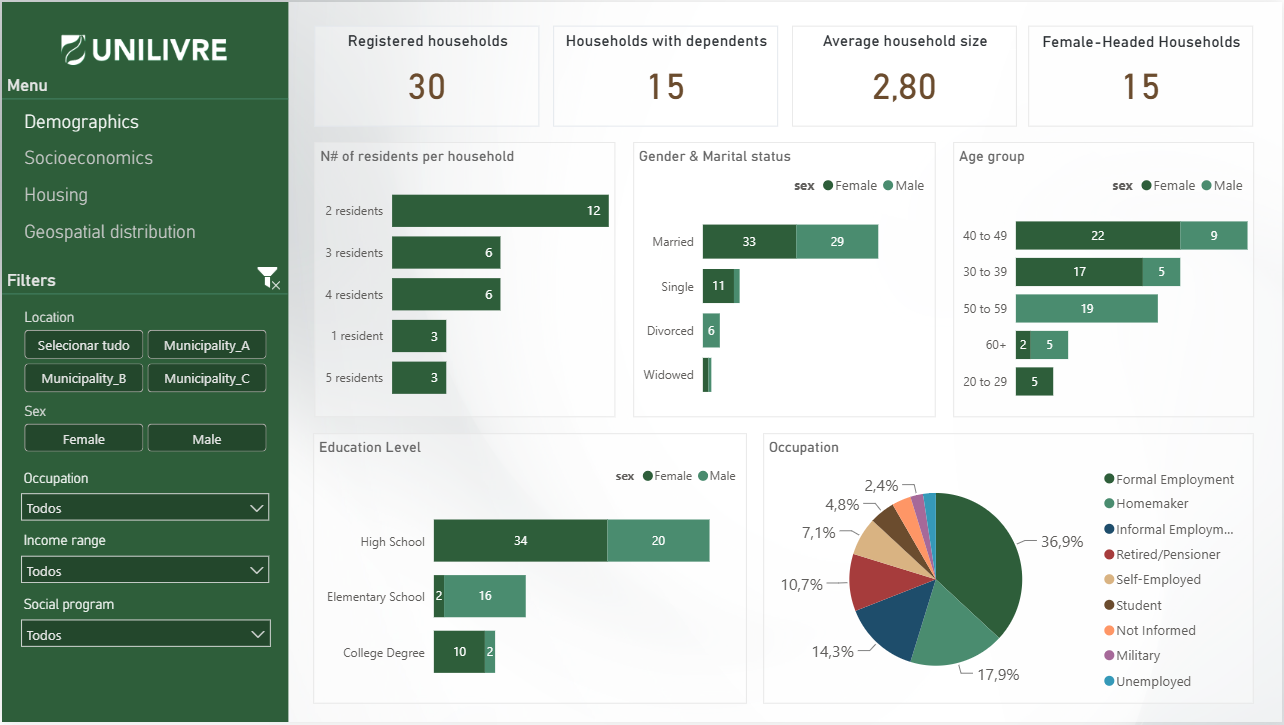

This screenshot's page, from the dashboard's own definition file:
{"tool":"powerbi","page":{"name":"Demographics","canvas":[1280,720],"ordinal":0},"visuals":[{"type":"shape","box":[0,0,286.7,720],"z":0},{"type":"cardVisual","title":"Registered households","fields":{"Data":["Count(dim_demographics.id_household)"]},"box":[312.4,23.5,225.1,100.8],"z":1000},{"type":"cardVisual","title":"Households with dependents","fields":{"Data":["dim_demographics.Households with Dependents"]},"box":[550.7,23.6,225,100.7],"z":2000},{"type":"pieChart","title":"Occupation","fields":{"Category":["dim_demographics.occupation"],"Y":["Sum(dim_demographics.household_size)"]},"box":[761.7,431.7,490,270],"z":3000},{"type":"barChart","title":"Age group","fields":{"Series":["dim_demographics.sex"],"Category":["dim_demographics.age_group"],"Y":["Sum(dim_demographics.household_size)"]},"box":[950.8,139.4,300.7,275.5],"z":4000},{"type":"cardVisual","title":"Average household size","fields":{"Data":["Avg(dim_demographics.household_size)"]},"box":[789.5,23.5,225.1,100.8],"z":5000},{"type":"barChart","title":"Education Level","fields":{"Series":["dim_demographics.sex"],"Category":["dim_demographics.education_level"],"Y":["Sum(dim_demographics.household_size)"]},"box":[311.7,431.7,433.3,270],"z":6000},{"type":"barChart","title":"N# of residents per household","fields":{"Y":["CountNonNull(dim_demographics.id_household)"],"Category":["dim_demographics.resident #"]},"box":[312.4,139.4,300.7,275.5],"z":7000},{"type":"barChart","title":"Gender & Marital status","fields":{"Series":["dim_demographics.sex"],"Category":["dim_demographics.marital_status"],"Y":["Sum(dim_demographics.household_size)"]},"box":[631.6,139.4,302.4,275.5],"z":8000},{"type":"cardVisual","title":"Female-Headed Households","fields":{"Data":["CountNonNull(dim_demographics.id_household)"]},"box":[1026.4,23.5,225.1,100.8],"z":9000},{"type":"image","box":[39.2,0,207.9,87.4],"z":10000},{"type":"slicer","fields":{"Values":["dim_demographics.occupation"]},"box":[8.6,461.9,268.6,71.4],"z":11000},{"type":"slicer","fields":{"Values":["dim_demographics.family_income_range"]},"box":[8.6,524.8,268.6,71.4],"z":12000},{"type":"slicer","fields":{"Values":["dim_social.program_name"]},"box":[8.6,589.1,270,72.9],"z":13000},{"type":"textbox","title":"Filters","box":[0,267.2,285.7,52.9],"z":14000},{"type":"textbox","title":"Menu","box":[0,72.3,286.2,52.7],"z":15000},{"type":"image","box":[250,265,34.2,22.4],"z":16000},{"type":"advancedSlicerVisual","title":"Sex","fields":{"Values":["households_sample.sex"]},"box":[17.1,400.6,252.6,55.3],"z":17000},{"type":"advancedSlicerVisual","title":"Location","fields":{"Values":["dim_demographics.municipality"]},"box":[17.1,305.8,252.6,89.5],"z":18000},{"type":"pageNavigator","title":"NAVEGAÇÃO","box":[12.1,99.5,259.4,149.3],"z":19000}]}

Visuals, with their boxes in screenshot pixels (x1, y1, x2, y2), scaled from the page's 1280x720 canvas onto the 1284x725 screenshot:
shape: 0:0:288:724
"Registered households" cardVisual: 313:24:539:125
"Households with dependents" cardVisual: 552:24:778:125
"Occupation" pieChart: 764:435:1256:707
"Age group" barChart: 954:140:1255:418
"Average household size" cardVisual: 792:24:1018:125
"Education Level" barChart: 313:435:747:707
"N# of residents per household" barChart: 313:140:615:418
"Gender & Marital status" barChart: 634:140:937:418
"Female-Headed Households" cardVisual: 1030:24:1255:125
image: 39:0:248:88
slicer - dim_demographics.occupation: 9:465:278:537
slicer - dim_demographics.family_income_range: 9:528:278:600
slicer - dim_social.program_name: 9:593:279:667
"Filters" textbox: 0:269:287:322
"Menu" textbox: 0:73:287:126
image: 251:267:285:289
"Sex" advancedSlicerVisual: 17:403:271:459
"Location" advancedSlicerVisual: 17:308:271:398
"NAVEGAÇÃO" pageNavigator: 12:100:272:251
